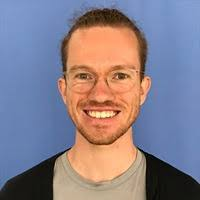without_mask: (56, 60, 151, 147)
